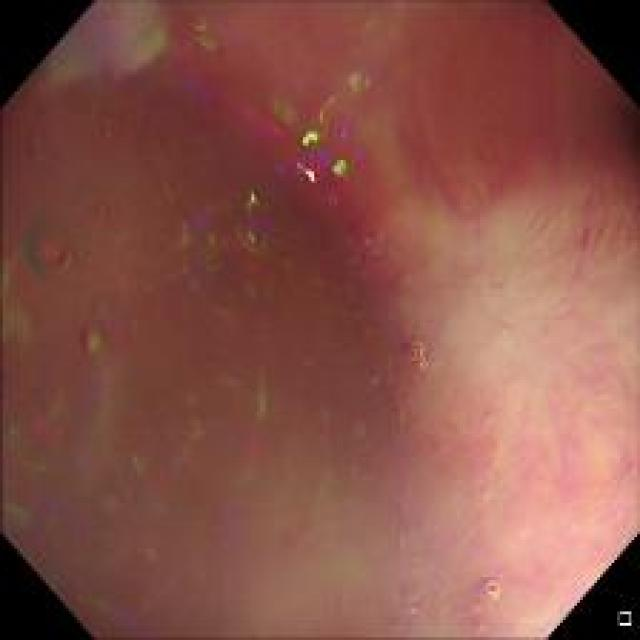color misalignment: (6, 10, 630, 632), (8, 226, 142, 490), (225, 75, 380, 208), (161, 185, 298, 298), (221, 370, 281, 481), (464, 568, 508, 610), (401, 328, 434, 372)
